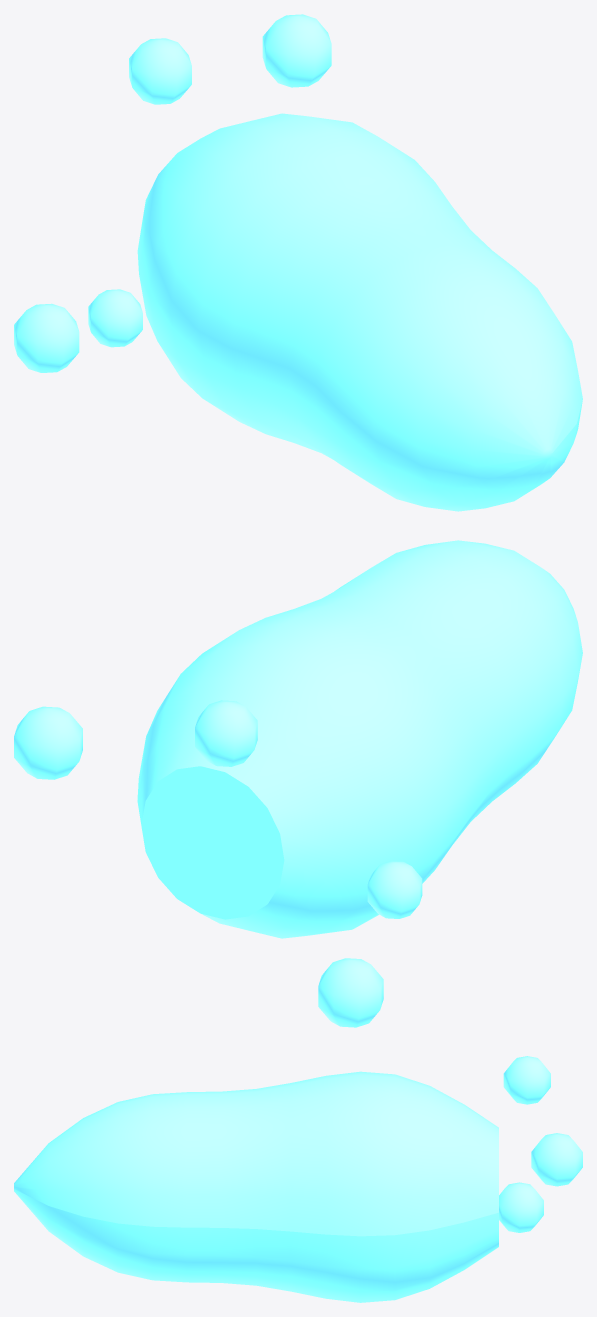
The model's file is fx_plasma.glb.
The picture shows the model from 3 angles, top to bottom: view 1: azimuth 30°, elevation 25°; view 2: azimuth 150°, elevation 25°; view 3: azimuth 270°, elevation 25°; orthographic projection. The views are drawn at different scales.
Visible parts, largest first — view 1: plasma-teardrop; view 2: plasma-teardrop; view 3: plasma-teardrop.
Boxes of the visible parts, box(x1,y1,x2,y2) form: plasma-teardrop: box(14, 14, 582, 511); plasma-teardrop: box(14, 540, 582, 1027); plasma-teardrop: box(14, 1056, 582, 1302).
Size of the model in its own units: 0.4181 by 0.3624 by 0.8445.
